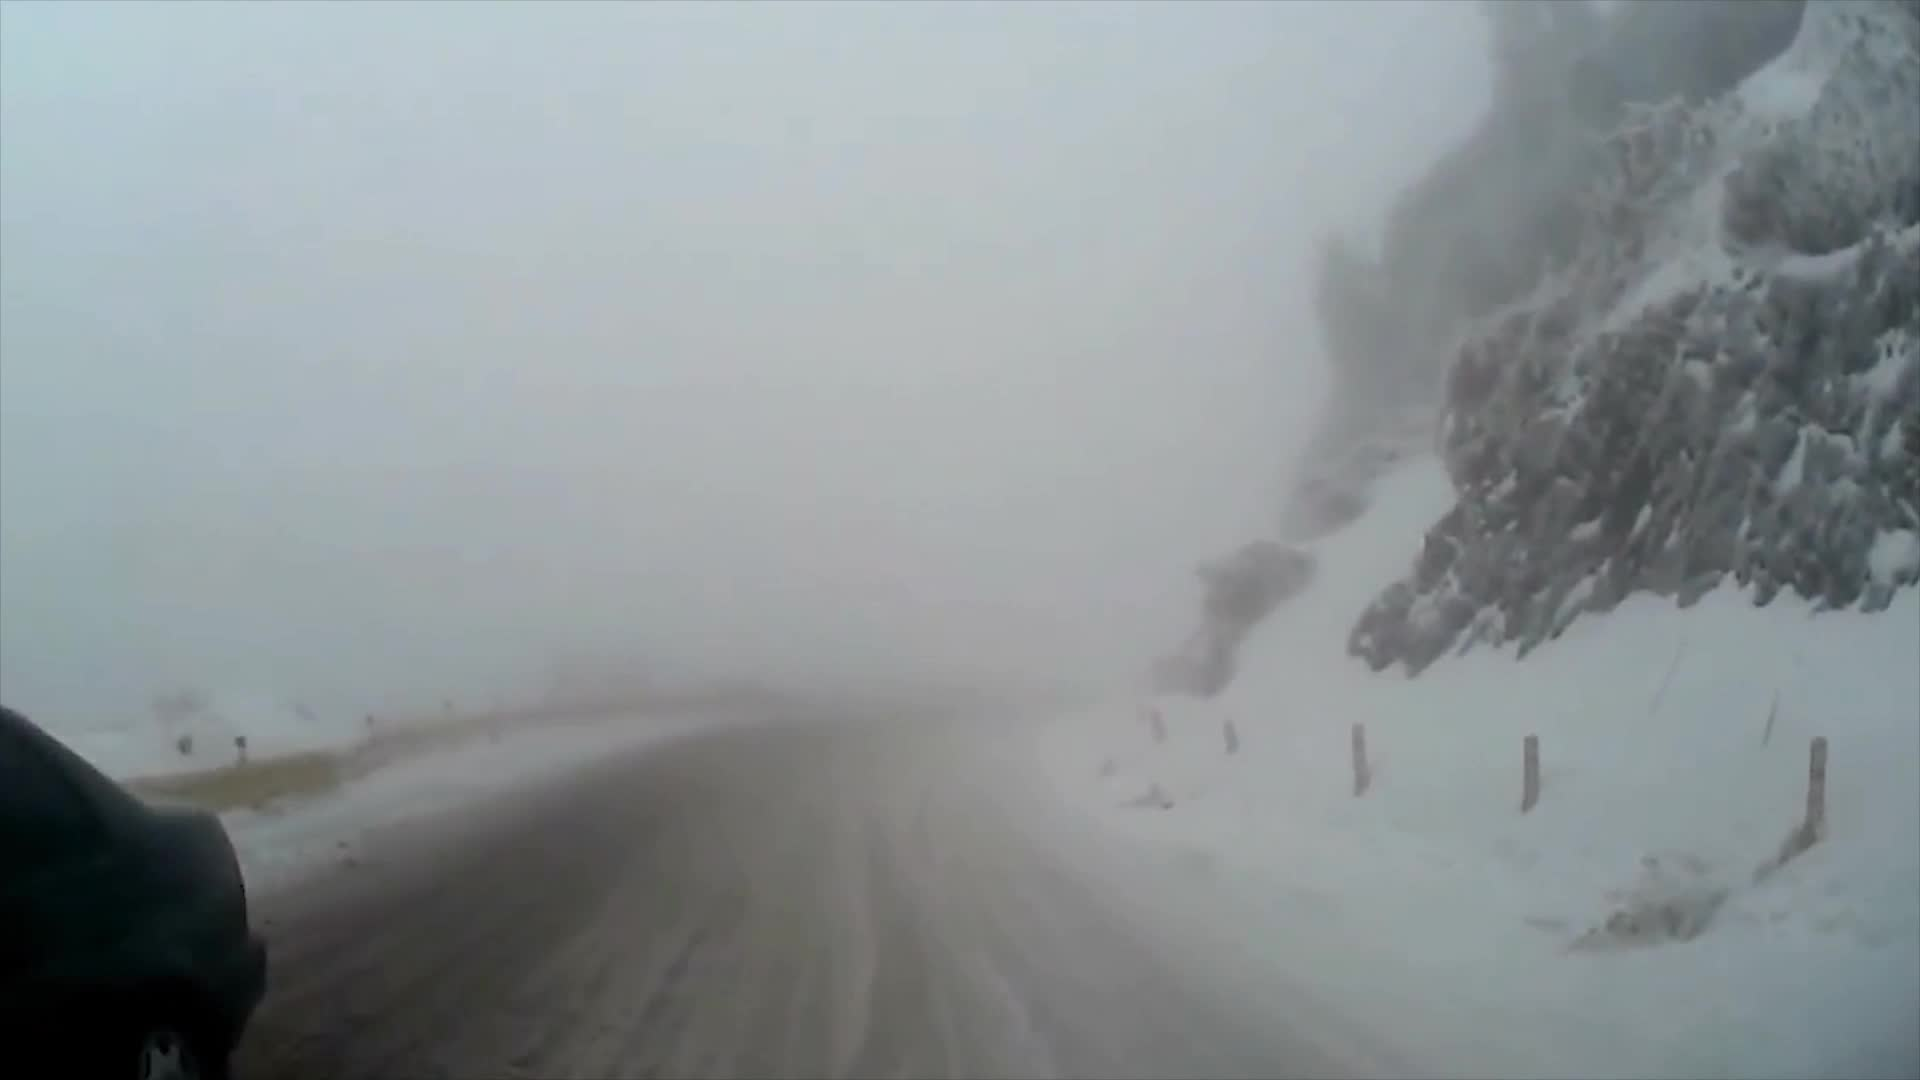vehicle: (0, 709, 270, 1079)
